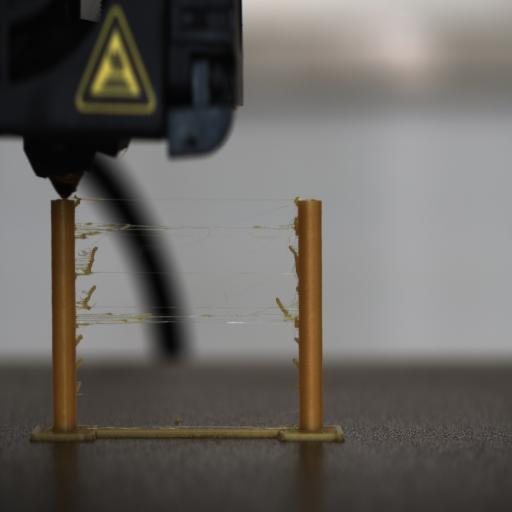stringing: (280, 235, 301, 313), (243, 232, 291, 252), (76, 228, 116, 249), (276, 202, 300, 235), (183, 226, 212, 244), (76, 285, 96, 311), (288, 245, 298, 269), (75, 334, 83, 346), (76, 357, 83, 369), (76, 380, 82, 394), (293, 358, 299, 368), (224, 291, 228, 301)
